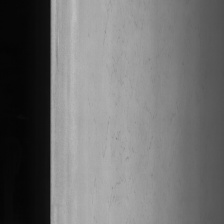silk_spot: (97, 0, 150, 200)
